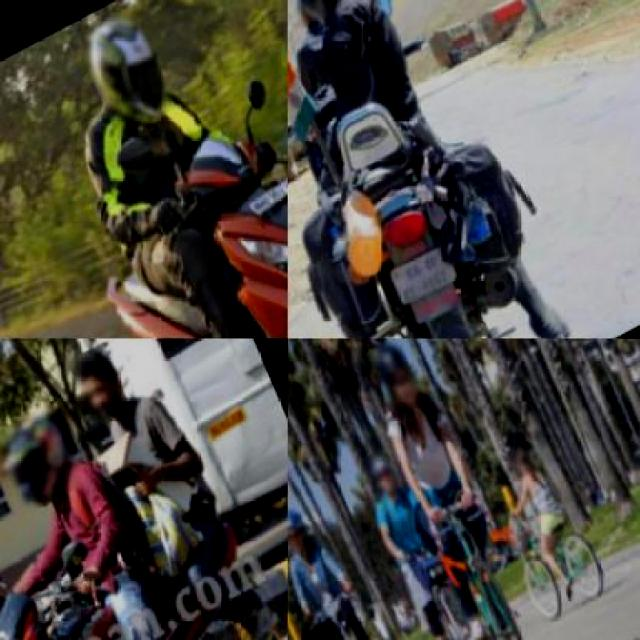With Helmet: (71, 3, 183, 146), (0, 404, 92, 529), (365, 338, 432, 428), (288, 0, 375, 37), (364, 448, 408, 509), (288, 506, 318, 562)
Without Helmet: (66, 347, 136, 439), (508, 447, 544, 493)
